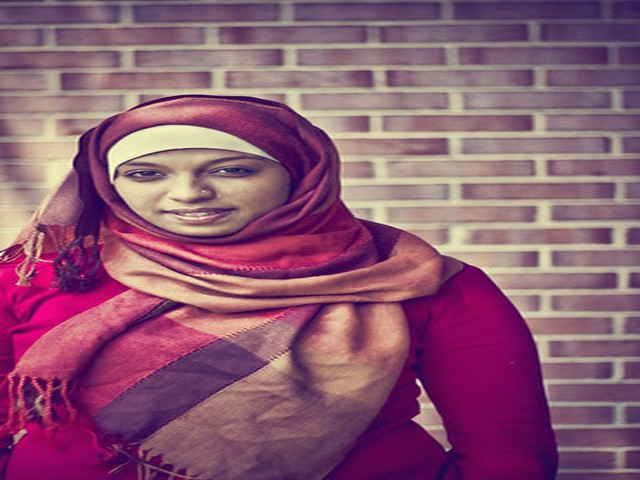Person: (2, 88, 564, 480)
